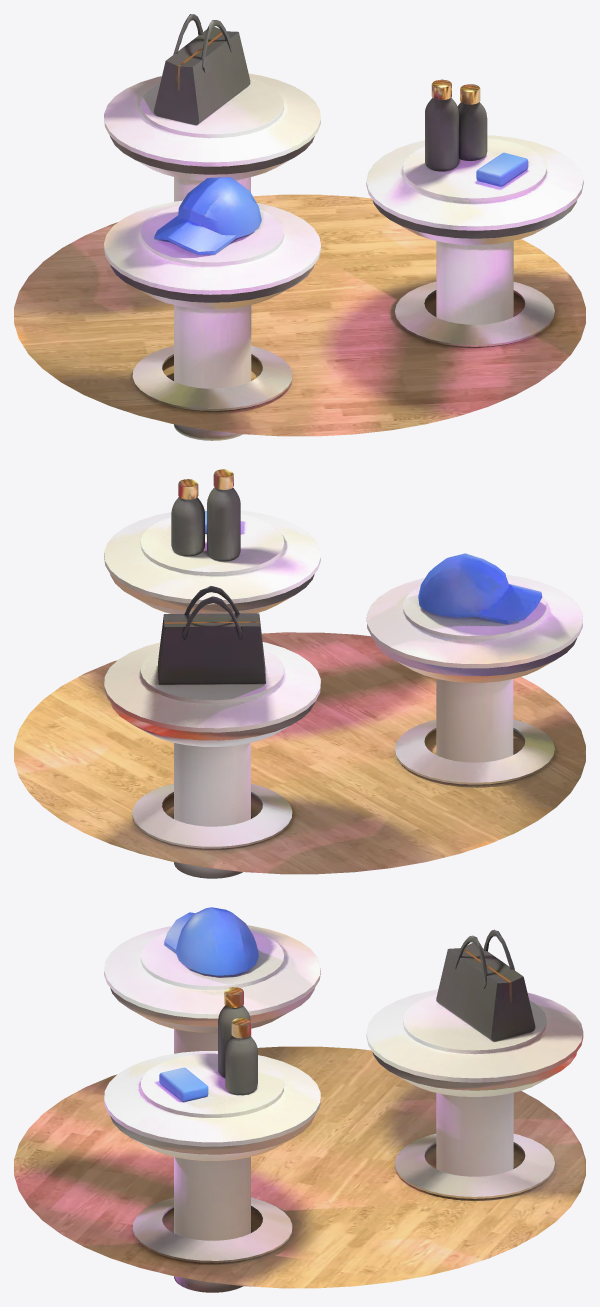
Rendered from minigame_podiums.glb.
3 views of the same model, one above another, from view 1: azimuth 30°, elevation 25°; view 2: azimuth 150°, elevation 25°; view 3: azimuth 270°, elevation 25° (orthographic).
Parts seen in each view (by area): view 1: Decoration.podium.floor_Baked, Decoration.podium1, Decoration.podium2, Decoration.podium0; view 2: Decoration.podium.floor_Baked, Decoration.podium0, Decoration.podium2, Decoration.podium1; view 3: Decoration.podium.floor_Baked, Decoration.podium0, Decoration.podium1, Decoration.podium2.
Boxes of the visible parts, x1,y1,x2,y2 form: Decoration.podium.floor_Baked: (14,194,585,436); Decoration.podium1: (366,79,583,324); Decoration.podium2: (104,177,320,440); Decoration.podium0: (104,14,320,201); Decoration.podium.floor_Baked: (14,632,585,874); Decoration.podium0: (104,586,320,878); Decoration.podium2: (366,553,582,762); Decoration.podium1: (104,469,320,613); Decoration.podium.floor_Baked: (14,1046,585,1288); Decoration.podium0: (366,929,583,1176); Decoration.podium1: (104,987,320,1292); Decoration.podium2: (104,907,320,1053).
Size of the model in its own units: 0.1153 by 0.0615 by 0.1153.
Materials: 1 (1 with a texture image).
